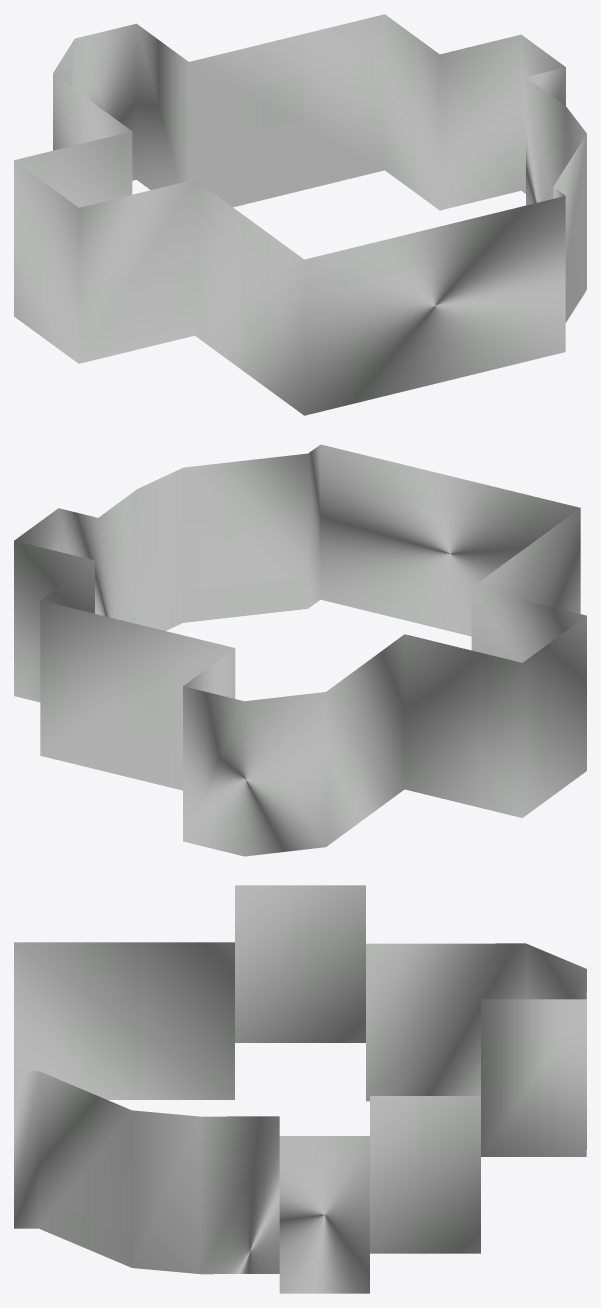
File: FMQ001_ALPHAWALL.glb
The picture shows the model from 3 angles, top to bottom: view 1: azimuth 30°, elevation 25°; view 2: azimuth 150°, elevation 25°; view 3: azimuth 270°, elevation 25°; orthographic projection.
Parts seen in each view (by area): view 1: Mesh; view 2: Mesh; view 3: Mesh.
Boxes of the visible parts, x1,y1,x2,y2 form: Mesh: [14, 14, 586, 415]; Mesh: [14, 444, 586, 856]; Mesh: [14, 885, 586, 1293].
Size of the model in its own units: 35.03 by 10.26 by 33.81.
1 material, 1 textured.
